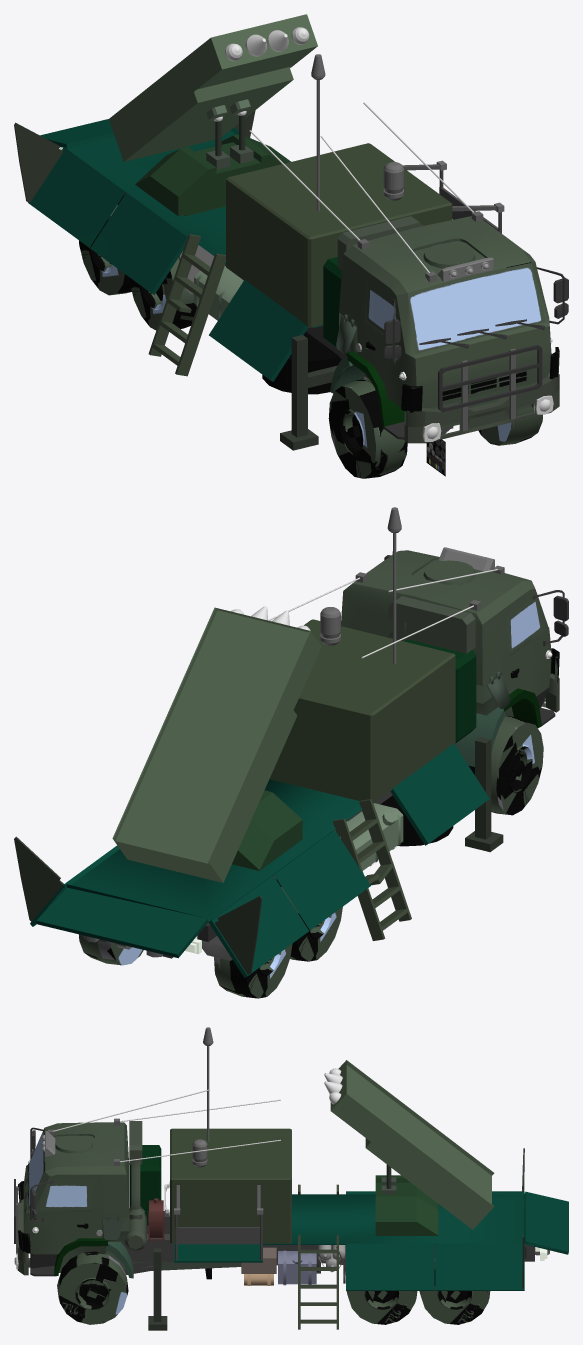
The model's file is not-deployed(green).fbx.
The picture shows the model from 3 angles, top to bottom: view 1: azimuth 30°, elevation 25°; view 2: azimuth 150°, elevation 25°; view 3: azimuth 270°, elevation 25°; orthographic projection. The views are drawn at different scales.
Visible parts, largest first — view 1: Куб.131, Куб.136, Cube, Cube.002, Цилиндр.051, Cube.001, Cube.008, Куб.096, Cube.016, Cube.011, Cube.007, Цилиндр.053 (+17 smaller); view 2: Cube.002, Куб.136, Cube, Куб.131, Цилиндр.051, Cube.008, Цилиндр.059, Cube.001, Цилиндр.001, Cube.015, Cube.010, Cube.011 (+10 smaller); view 3: Куб.136, Куб.131, Cube, Cube.002, Цилиндр.051, Cube.001, Цилиндр.001, Цилиндр.053, Цилиндр.059, Куб.118, Cube.018, Cube.015 (+16 smaller).
Boxes of the visible parts, x1=… form: Куб.131: x1=339, y1=216, x2=559, y2=428; Куб.136: x1=28, y1=119, x2=323, y2=381; Cube: x1=226, y1=143, x2=452, y2=327; Cube.002: x1=109, y1=14, x2=317, y2=161; Цилиндр.051: x1=328, y1=379, x2=542, y2=478; Cube.001: x1=135, y1=134, x2=290, y2=216; Cube.008: x1=148, y1=234, x2=225, y2=376; Куб.096: x1=404, y1=374, x2=559, y2=443; Cube.016: x1=280, y1=335, x2=337, y2=450; Cube.011: x1=14, y1=122, x2=63, y2=202; Cube.007: x1=438, y1=344, x2=542, y2=412; Цилиндр.053: x1=129, y1=258, x2=196, y2=330; Cube.002: x1=112, y1=607, x2=321, y2=882; Куб.136: x1=30, y1=743, x2=489, y2=977; Cube: x1=269, y1=619, x2=455, y2=803; Куб.131: x1=341, y1=550, x2=559, y2=743; Цилиндр.051: x1=469, y1=716, x2=543, y2=815; Cube.008: x1=332, y1=799, x2=411, y2=940; Цилиндр.059: x1=387, y1=596, x2=475, y2=653; Cube.001: x1=232, y1=790, x2=302, y2=870; Цилиндр.001: x1=79, y1=934, x2=292, y2=998; Cube.015: x1=404, y1=639, x2=476, y2=742; Cube.010: x1=14, y1=836, x2=63, y2=924; Cube.011: x1=214, y1=895, x2=262, y2=974; Куб.136: x1=174, y1=1191, x2=568, y2=1290; Куб.131: x1=18, y1=1122, x2=129, y2=1272; Cube: x1=170, y1=1128, x2=291, y2=1243; Cube.002: x1=330, y1=1060, x2=494, y2=1229; Цилиндр.051: x1=57, y1=1251, x2=128, y2=1324; Cube.001: x1=375, y1=1175, x2=438, y2=1235; Цилиндр.001: x1=419, y1=1258, x2=490, y2=1324; Цилиндр.053: x1=346, y1=1291, x2=417, y2=1324; Цилиндр.059: x1=124, y1=1121, x2=146, y2=1251; Куб.118: x1=121, y1=1211, x2=534, y2=1274; Cube.018: x1=175, y1=1227, x2=259, y2=1244; Cube.015: x1=129, y1=1145, x2=161, y2=1225.
Bounding box in the file's own units: 750 × 1057 × 2012.
66 materials, 5 textured.
